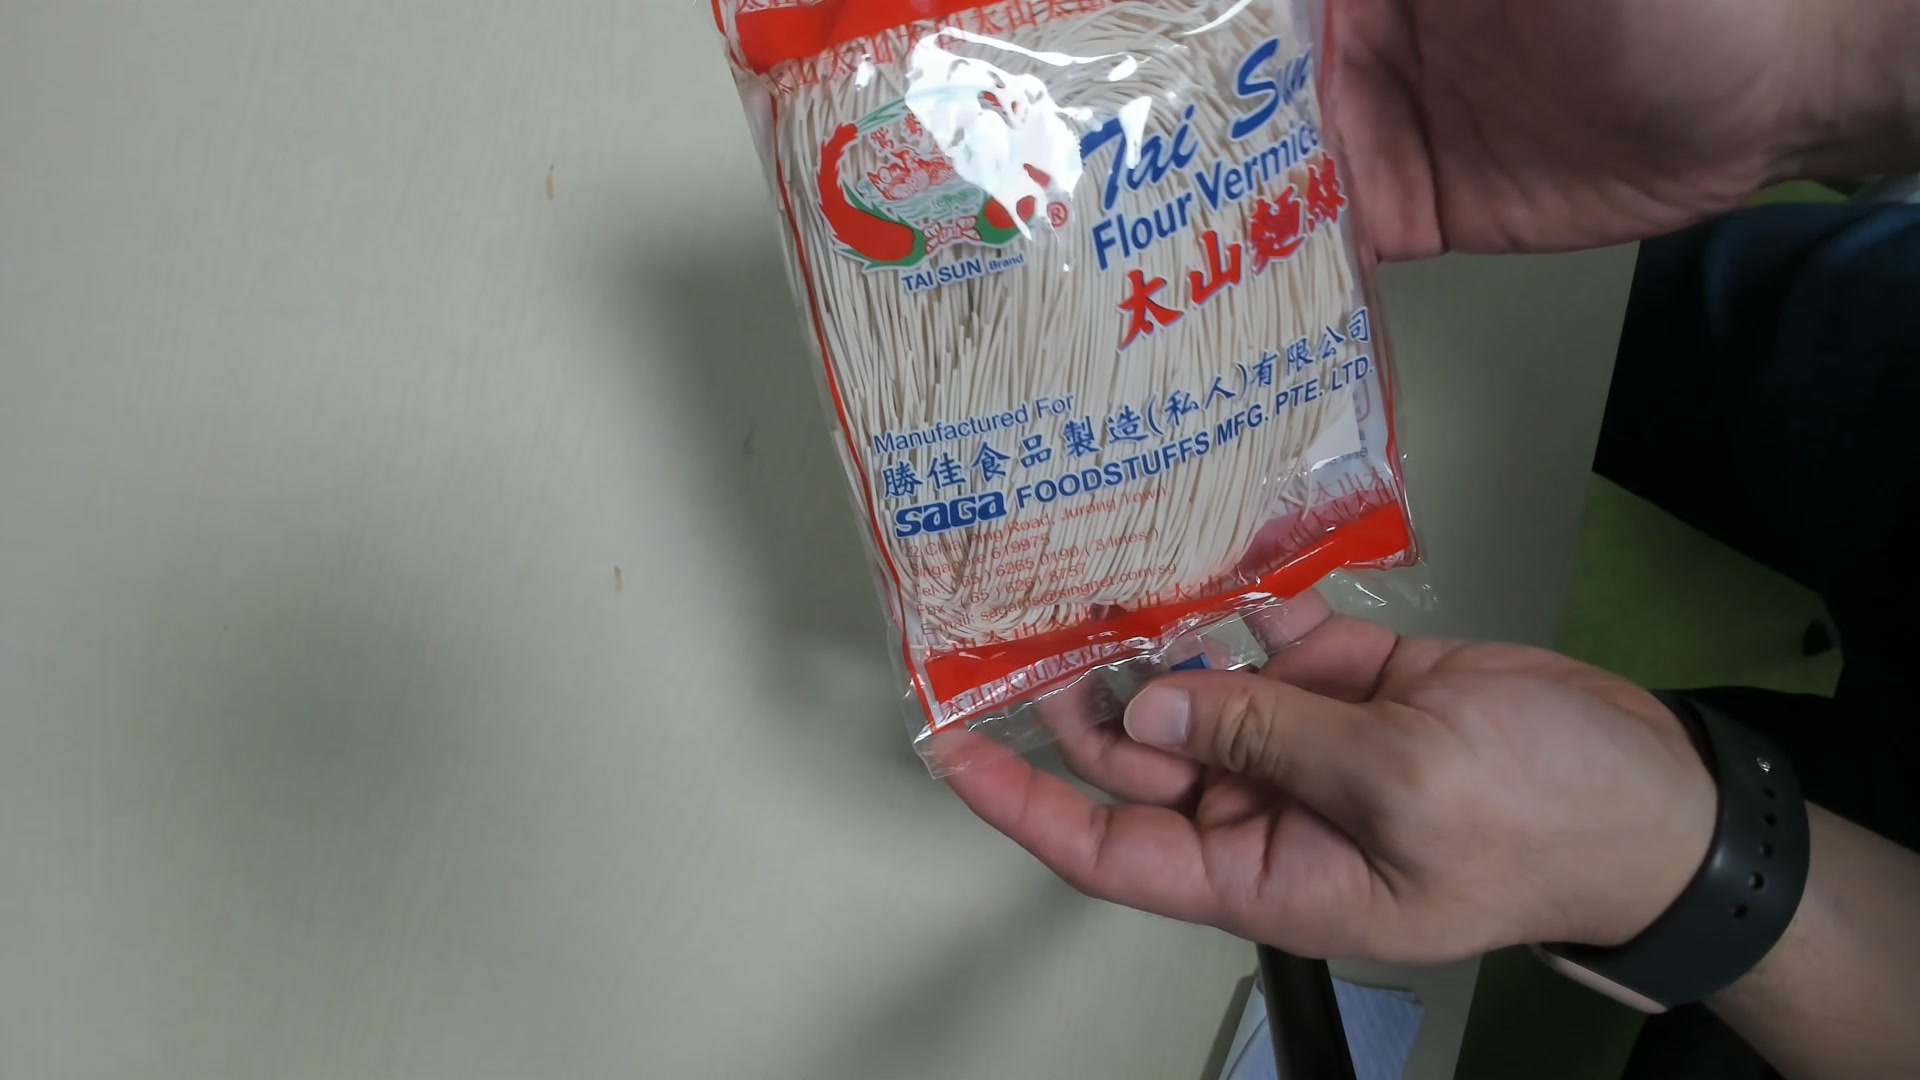BeeHoonVermicelli_100-199g_Halal_NonHealthy: (712, 5, 1441, 725)
